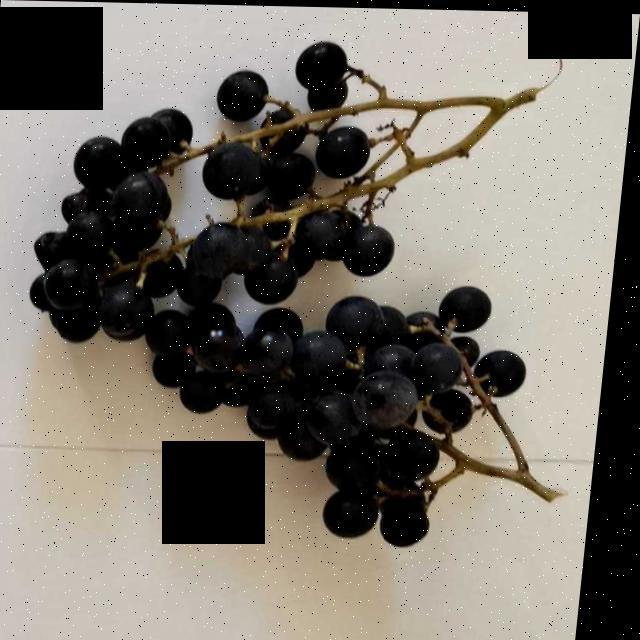grapes: (48, 54, 543, 517)
